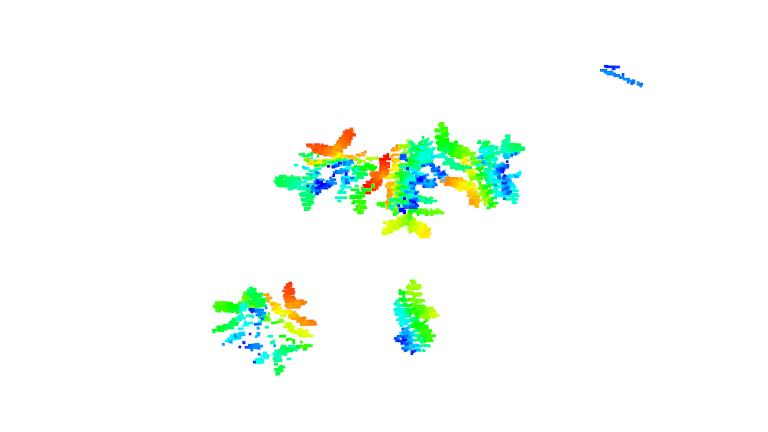chickpea: (210, 278, 321, 368), (431, 120, 538, 209), (274, 121, 370, 218), (358, 120, 452, 195), (392, 277, 442, 362), (381, 186, 439, 246)
